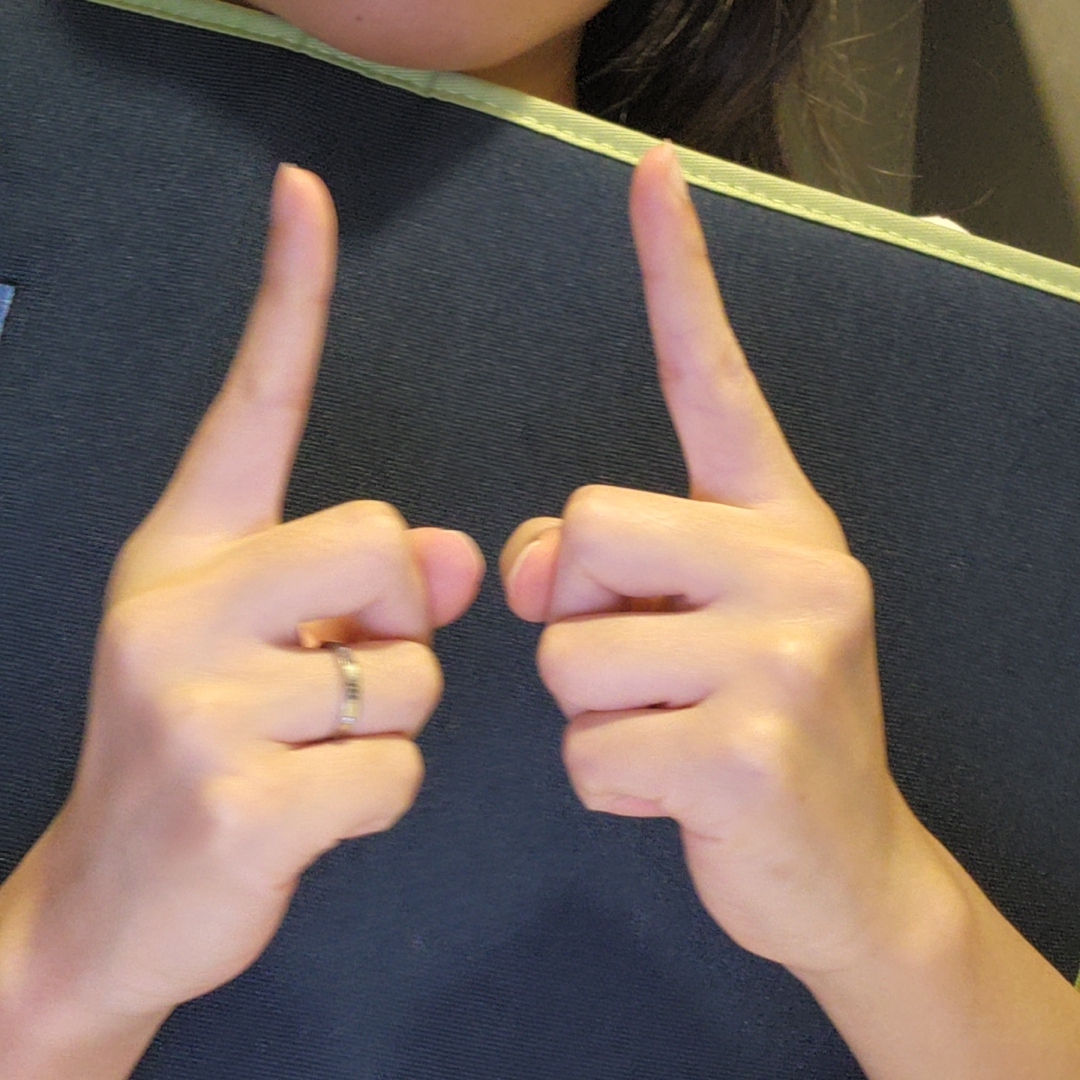meet: (72, 147, 919, 1008)
